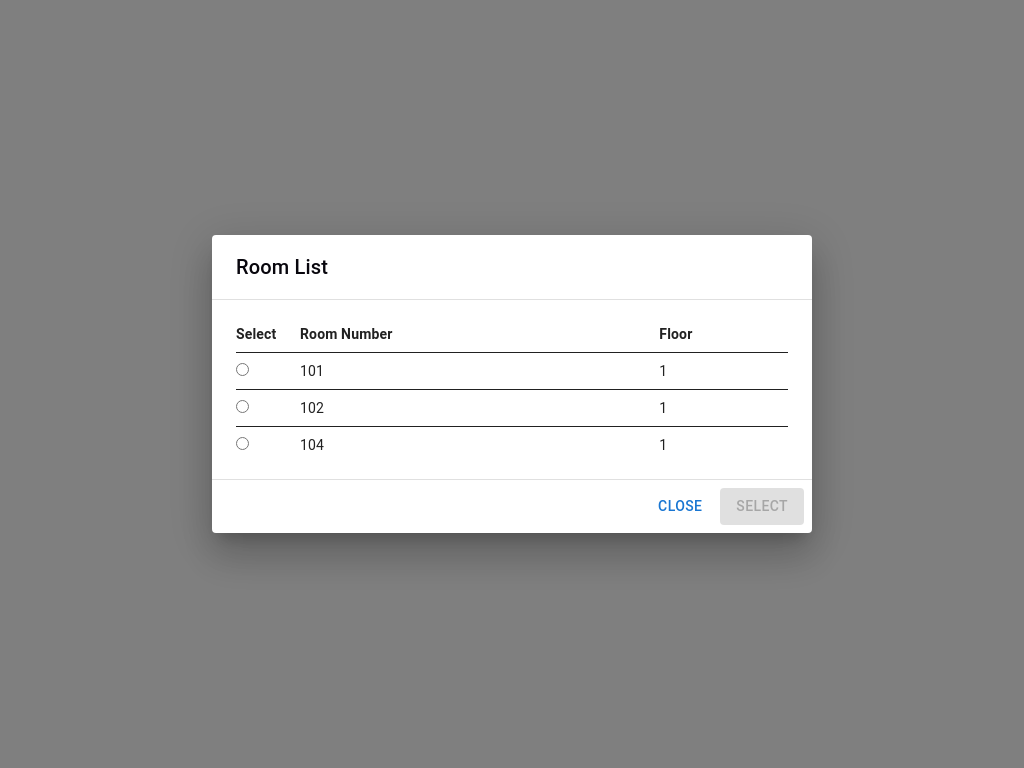
RoomListModal › clicking rm-104 (conflict) surfaces the conflict error
Expected: the text "104" is shown, 300,427 -> 659,463
Click the radio button next to "104".
click(242, 444)  # box 236,437 -> 249,450
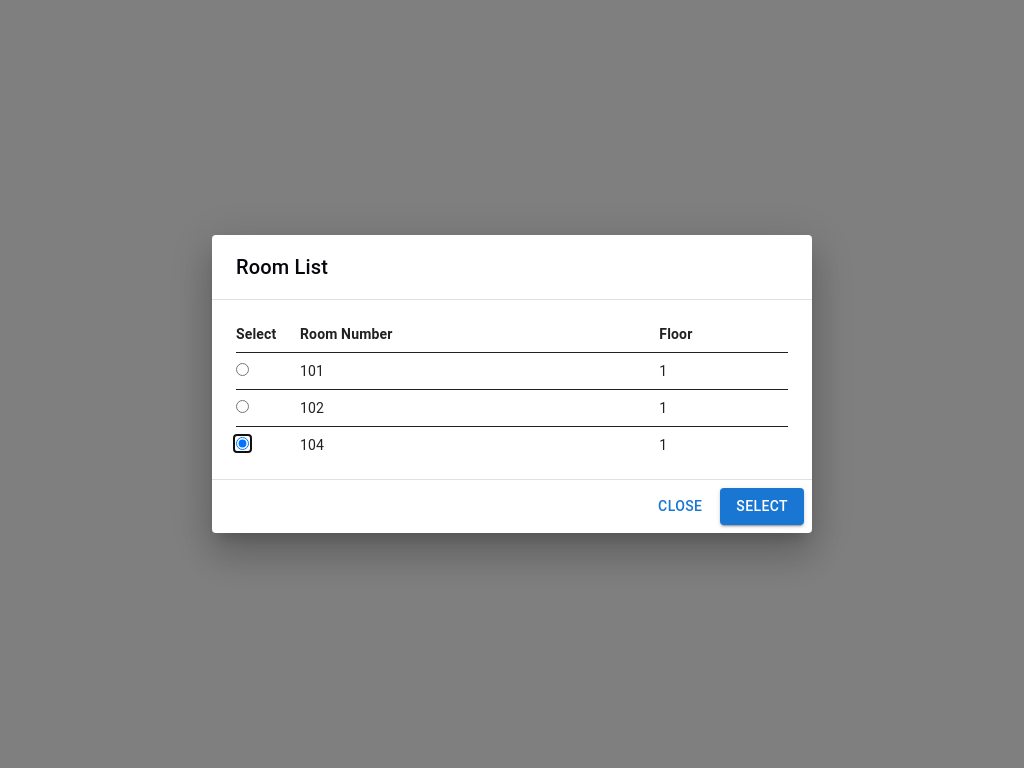
Click the button "Select".
click(762, 507)  # box 720,488 -> 804,525
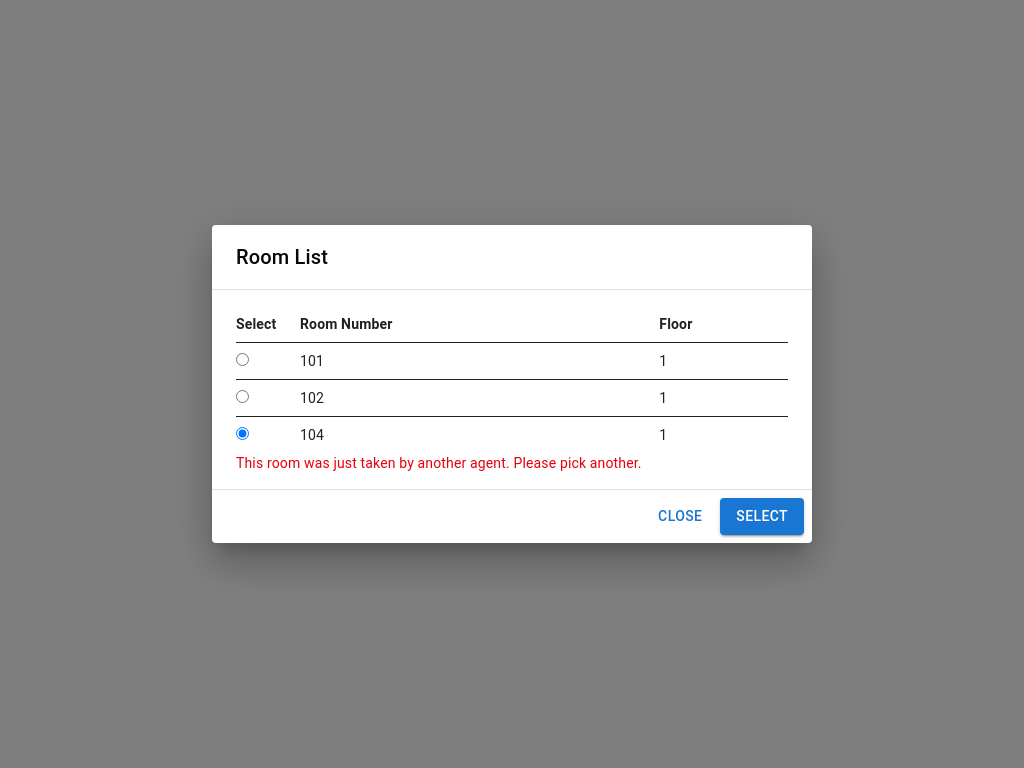
Expected: the text "This room was just taken by another agent. Please pick another." is shown, 236,455 -> 642,471
